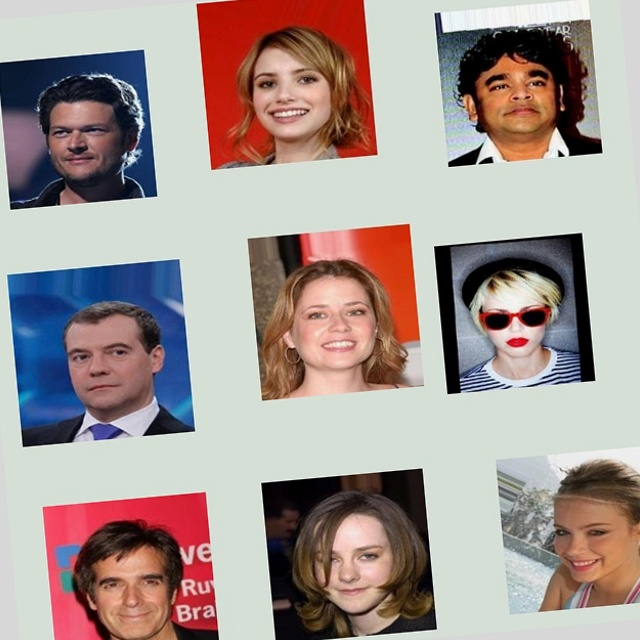celeb_10002: (454, 490, 623, 640)
celeb_1212: (36, 10, 196, 170)
celeb_2336: (0, 455, 177, 632)
celeb_2619: (5, 220, 193, 408)
celeb_2970: (241, 0, 422, 169)
celeb_4422: (219, 470, 394, 640)
celeb_4428: (249, 228, 426, 404)
celeb_7: (474, 39, 640, 207)
celeb_797: (432, 269, 594, 430)
